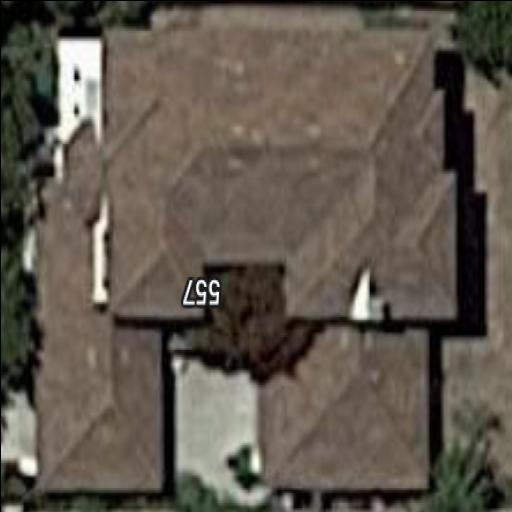Solar-Slope-Roof: (102, 12, 459, 318)
